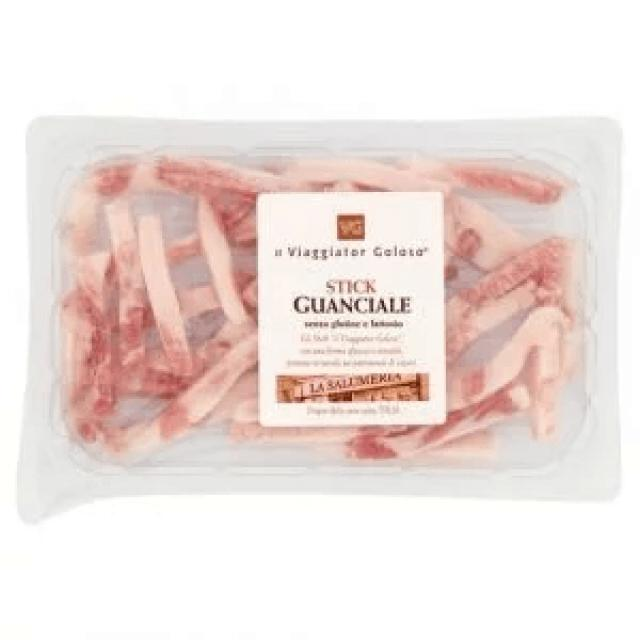Ham: (17, 117, 619, 525)
